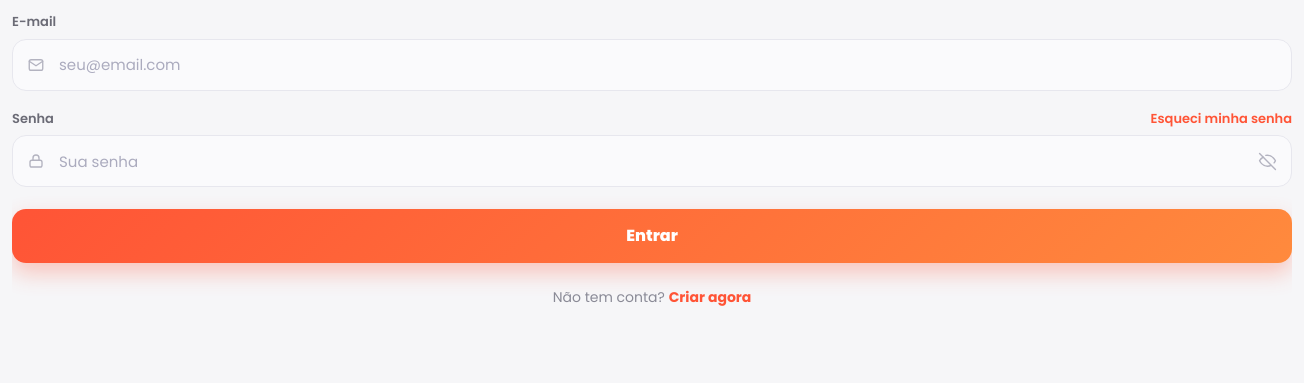
it: LoginForm › mostra erro quando as credenciais são inválidas (401)
This screenshot has width=1304, height=383.
Type "a@x.com" into the field with placeholder "seu@email.com" at (652, 64), box [12,38,1292,90]
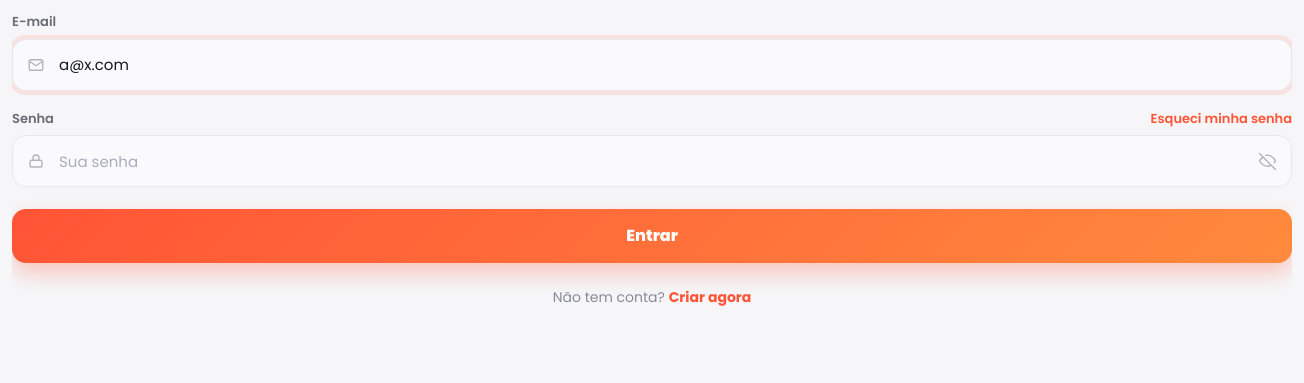
Type "errada" into the password field with placeholder "Sua senha" at (652, 161), box [12,135,1292,187]
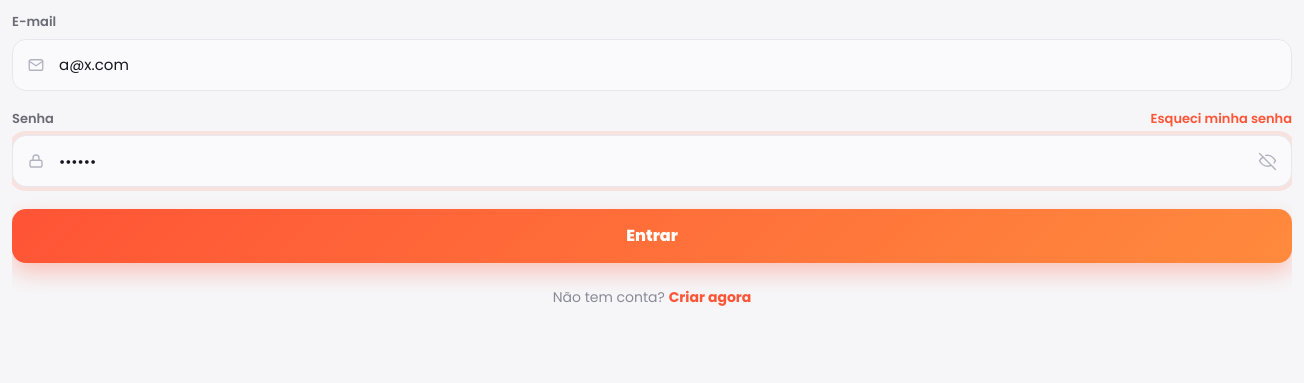
Click the button "Entrar" at (652, 236), box [12,209,1292,263]
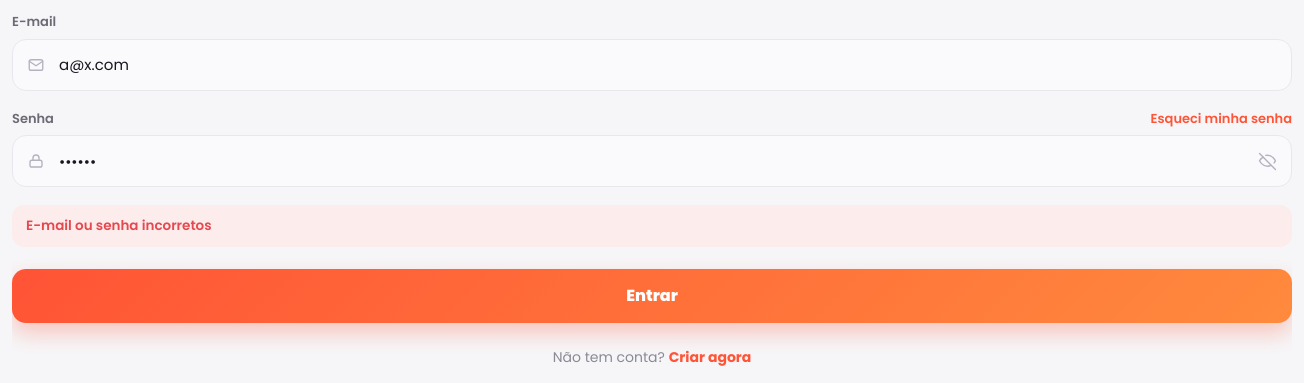
Now the text "E-mail ou senha incorretos" is shown, box [12,205,1292,247]
